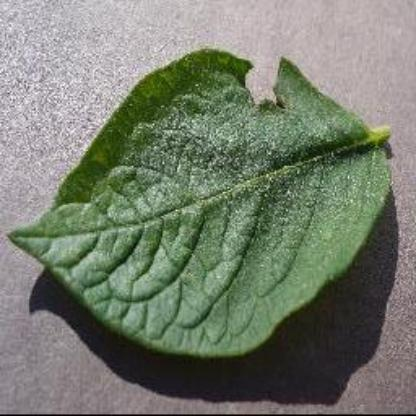Healthy-plant: (22, 34, 400, 374)
